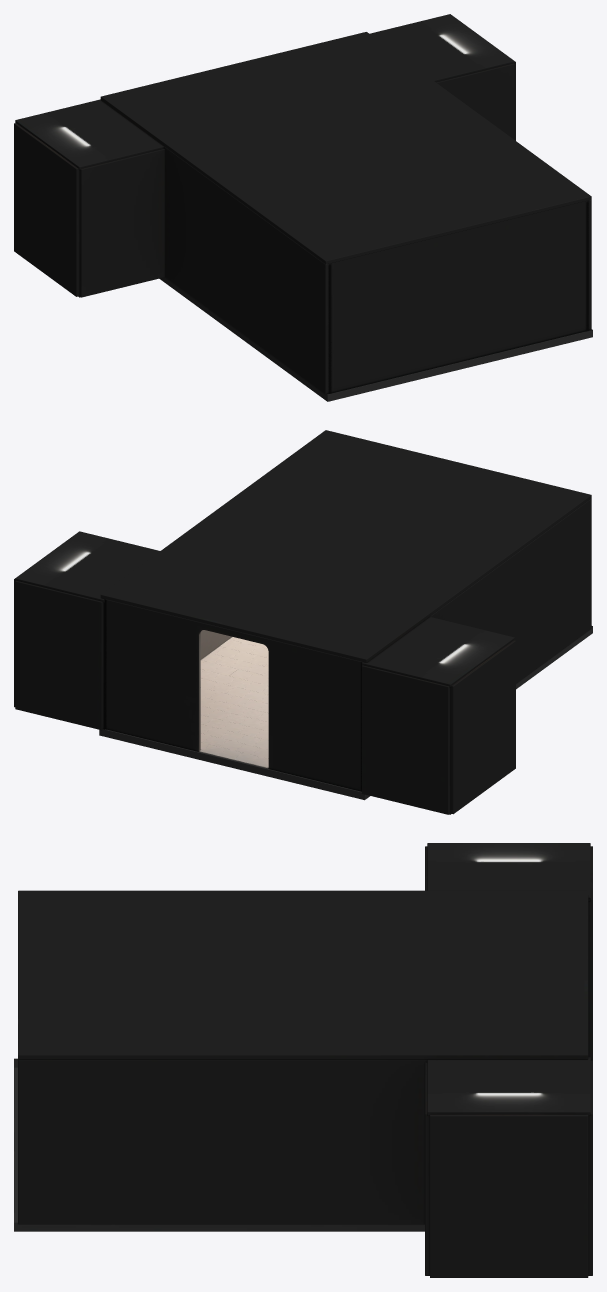
The model's file is extension-terminal-contemporary.glb.
3 renders of one model, top to bottom at view 1: azimuth 30°, elevation 25°; view 2: azimuth 150°, elevation 25°; view 3: azimuth 270°, elevation 25°, orthographic. The views are drawn at different scales.
Parts seen in each view (by area): view 1: LIGHTMAP extension walls, SURFACE extension floor; view 2: LIGHTMAP extension walls, SURFACE extension floor; view 3: LIGHTMAP extension walls, SURFACE extension floor.
Boxes of the visible parts, x1,y1,x2,y2 form: LIGHTMAP extension walls: (14, 14, 591, 394); SURFACE extension floor: (78, 277, 592, 401); LIGHTMAP extension walls: (14, 430, 591, 814); SURFACE extension floor: (99, 626, 592, 814); LIGHTMAP extension walls: (18, 843, 592, 1277); SURFACE extension floor: (14, 1058, 424, 1231).
Bounding box in the file's own units: 20.3 × 6.16 × 18.27.
18 materials, 17 textured.
